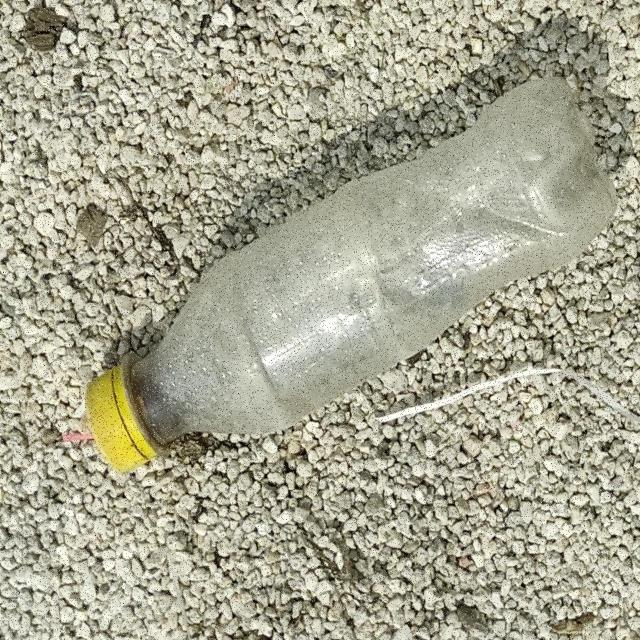plastic_waste: (85, 76, 621, 478)
